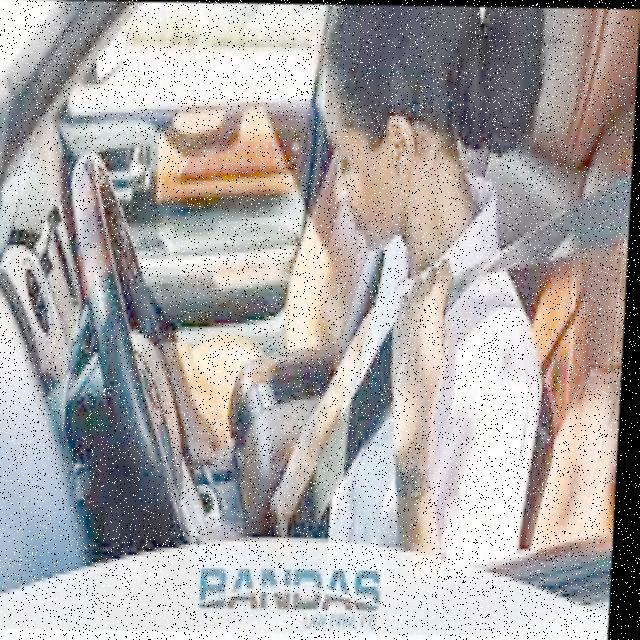seatbelt: (340, 213, 542, 540)
